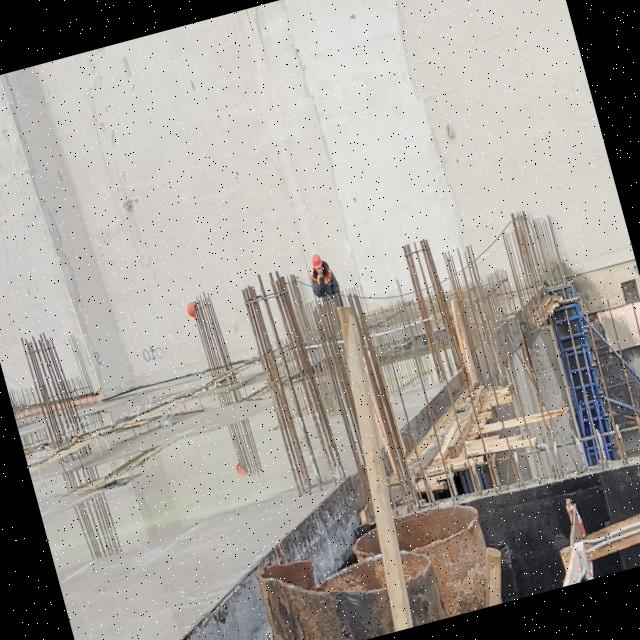Helmet: (311, 253, 326, 275), (186, 301, 200, 322)
